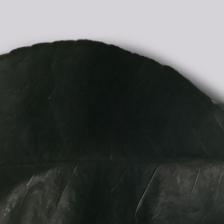healthy: (3, 57, 224, 224)
